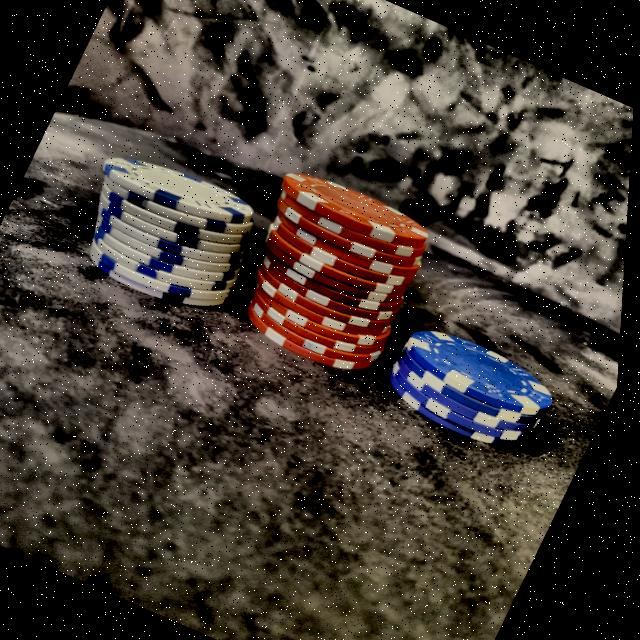Chip: (206, 138, 467, 406), (50, 120, 283, 338), (362, 291, 583, 470)
